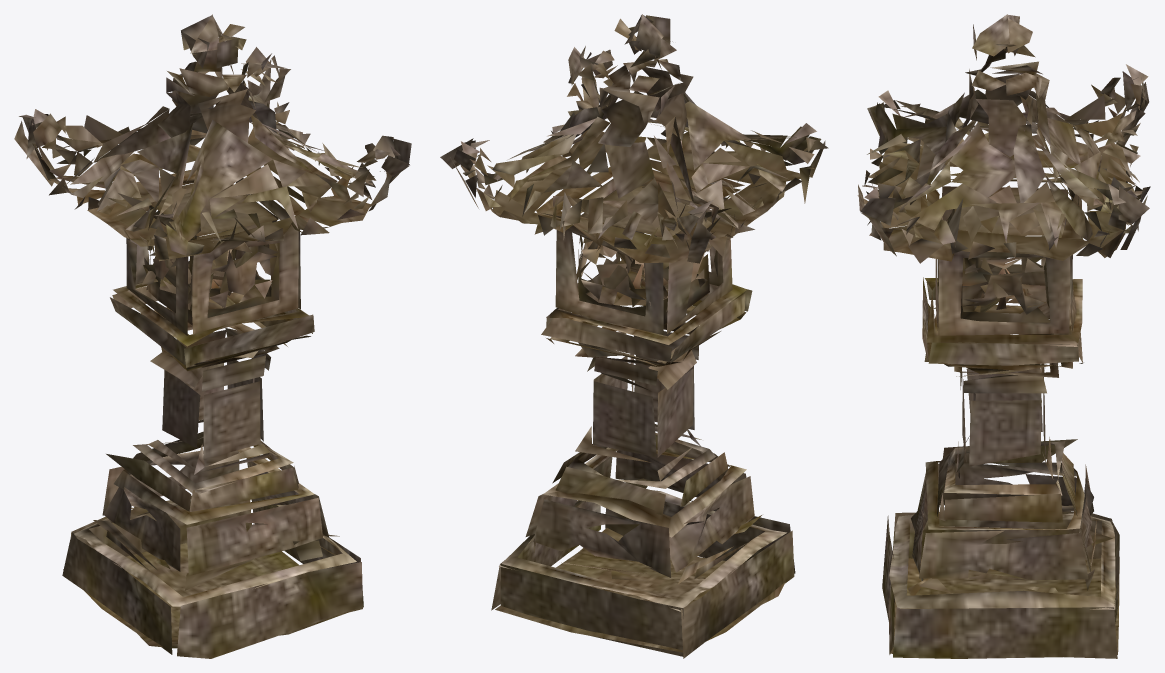
The model's file is lanterna_lod2.glb.
3 views of the same model, side by side, from view 1: azimuth 30°, elevation 25°; view 2: azimuth 150°, elevation 25°; view 3: azimuth 270°, elevation 25° (orthographic). The views are drawn at different scales.
Visible parts, largest first — view 1: lanterna; view 2: lanterna; view 3: lanterna.
Boxes of the visible parts, left/top/right/bottom form: lanterna: left=14, top=14, right=411, bottom=658; lanterna: left=440, top=14, right=828, bottom=658; lanterna: left=857, top=14, right=1150, bottom=658.
Size of the model in its own units: 0.7636 by 1.6 by 0.7051.
Materials: 1 (1 with a texture image).
